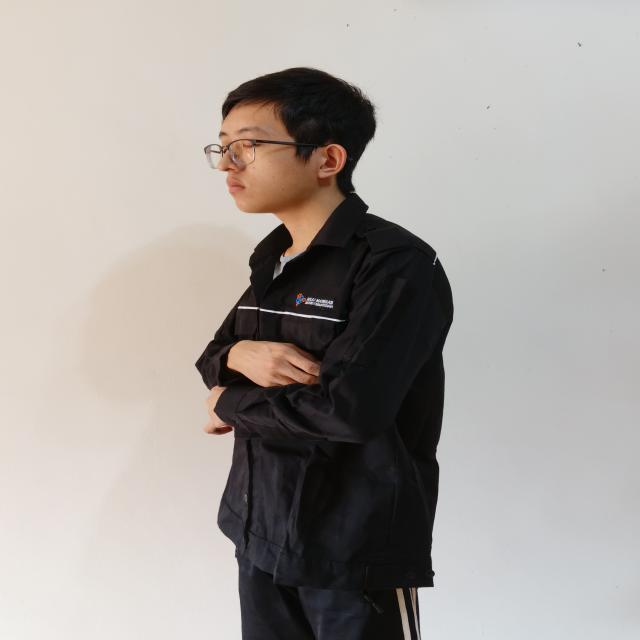person_with_labcoat: (196, 68, 453, 640)
